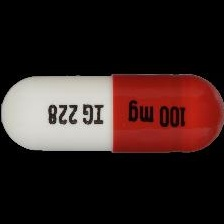31722-228: (0, 0, 224, 224)
